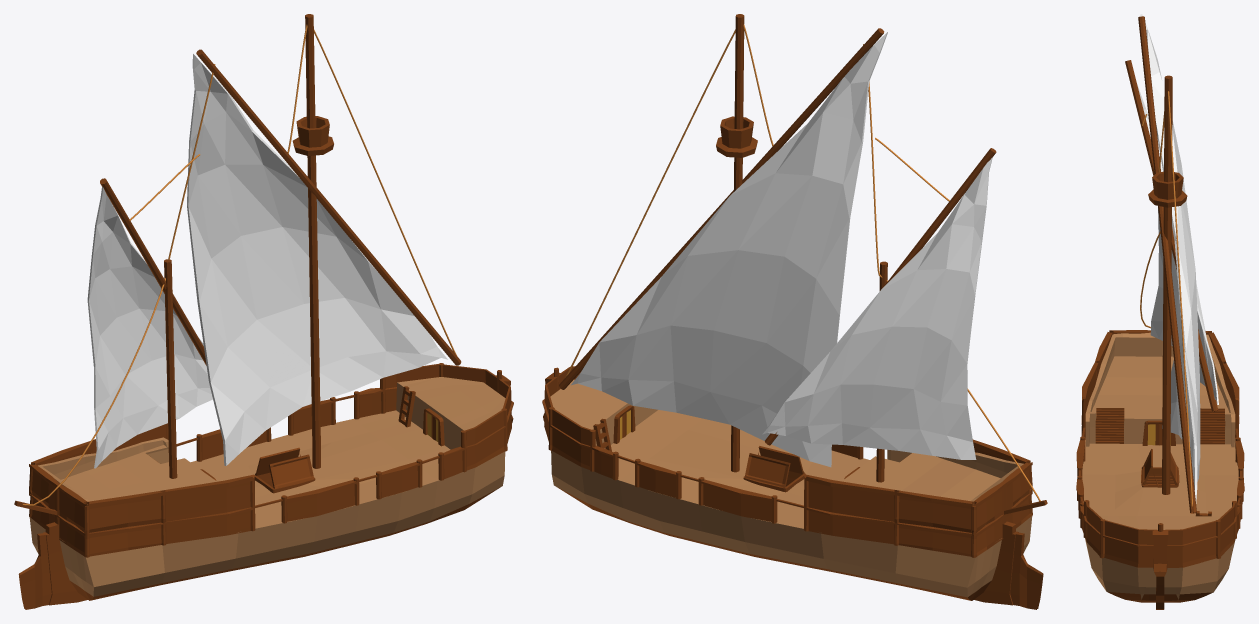
Rendered from ships_04_caravel.fbx.
3 views of the same model, side by side, from view 1: azimuth 30°, elevation 25°; view 2: azimuth 150°, elevation 25°; view 3: azimuth 270°, elevation 25° (orthographic). The views are drawn at different scales.
Parts seen in each view (by area): view 1: Flags.006, Base.008, Base.009, Flags.007, Mast.004, Rooms base.004, Mast.008, Quill.005, Ropes.003, Lower deck door.005; view 2: Flags.006, Flags.007, Base.008, Base.009, Mast.004, Rooms base.004, Quill.005, Ropes.003, Lower deck door.005, Mast.008; view 3: Base.008, Rooms base.004, Base.009, Mast.004, Flags.006, Flags.007, Mast.008, Ropes.003, Quill.005, Lower deck door.005, Crew door.005.
Boxes of the visible parts, x1,y1,x2,y2 form: Flags.006: (187,54,447,465); Base.008: (29,377,509,600); Base.009: (14,363,513,557); Flags.007: (87,186,212,468); Mast.004: (196,14,461,468); Rooms base.004: (38,437,216,504); Mast.008: (100,178,206,478); Quill.005: (18,375,513,609); Ropes.003: (22,24,457,505); Lower deck door.005: (254,447,315,493); Flags.006: (571,32,887,467); Flags.007: (762,157,992,459); Base.008: (548,379,1032,600); Base.009: (542,366,1047,557); Mast.004: (559,14,884,472); Rooms base.004: (842,449,1023,504); Quill.005: (543,372,1043,609); Ropes.003: (565,24,1040,501); Lower deck door.005: (743,446,805,492); Mast.008: (765,148,996,482); Base.008: (1082,438,1238,602); Rooms base.004: (1085,332,1235,447); Base.009: (1076,330,1244,567); Mast.004: (1138,16,1196,513); Flags.006: (1140,14,1200,503); Flags.007: (1137,84,1218,404); Mast.008: (1125,60,1218,411); Ropes.003: (1140,40,1192,506); Quill.005: (1152,530,1168,609); Lower deck door.005: (1141,449,1179,487); Crew door.005: (1142,420,1175,445).
Size of the model in its own units: 5354 by 5479 by 1724.
